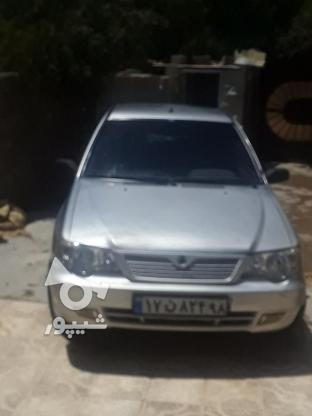car: (131, 292, 229, 318)
